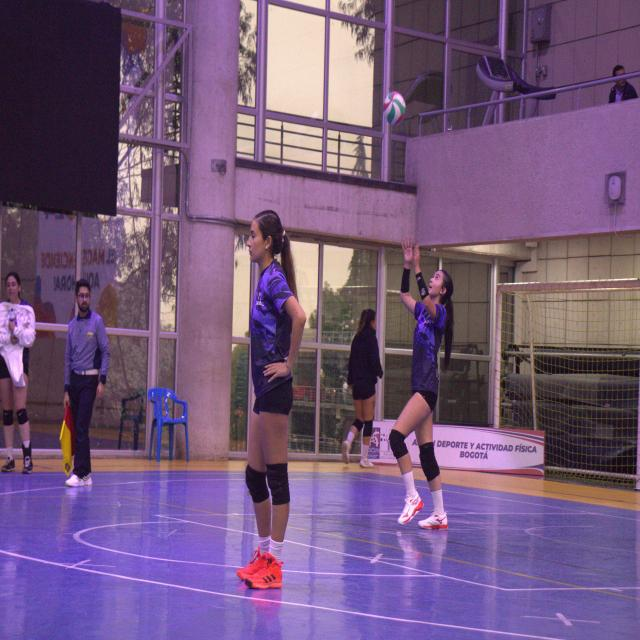volleyball: (382, 91, 405, 127)
